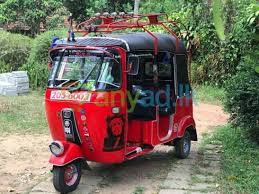tuk tuk: (45, 36, 200, 194)
